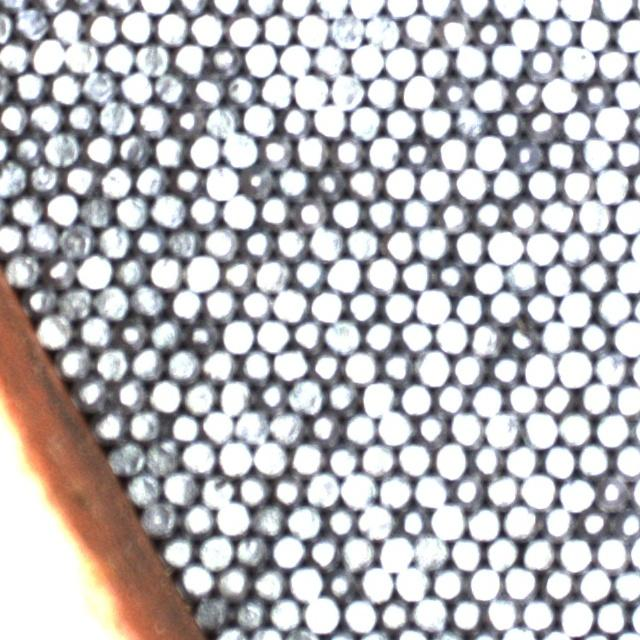tool: (377, 534, 413, 570), (485, 410, 521, 446), (340, 533, 376, 569), (412, 532, 448, 568), (326, 256, 362, 292), (342, 348, 378, 384), (558, 475, 594, 511), (502, 564, 538, 600), (304, 596, 340, 632), (432, 441, 468, 477), (162, 469, 198, 505), (393, 564, 428, 600), (329, 72, 364, 108), (468, 320, 503, 356), (558, 598, 593, 634), (595, 410, 630, 446), (181, 438, 216, 474), (521, 535, 556, 571), (252, 439, 288, 474), (99, 98, 134, 134), (82, 130, 117, 166), (593, 349, 628, 385), (78, 312, 113, 348), (340, 471, 375, 507), (130, 282, 166, 317), (377, 409, 413, 444), (198, 532, 233, 568), (305, 471, 340, 507), (466, 504, 501, 540), (556, 349, 592, 384), (59, 222, 94, 258), (270, 532, 305, 568), (558, 288, 593, 324), (357, 502, 393, 537), (36, 313, 72, 348), (503, 502, 538, 538), (342, 596, 377, 632), (524, 229, 559, 265), (595, 475, 630, 511), (44, 129, 79, 165), (576, 198, 612, 233), (576, 319, 612, 354), (141, 500, 177, 535), (472, 14, 508, 49), (289, 565, 324, 600), (234, 408, 269, 443), (559, 229, 594, 264), (484, 535, 519, 570), (506, 197, 541, 232), (488, 228, 523, 263), (185, 254, 220, 289), (309, 287, 344, 322), (269, 409, 304, 444), (558, 410, 593, 445), (14, 5, 49, 40), (594, 598, 629, 633), (293, 72, 328, 107), (234, 532, 269, 567), (415, 348, 450, 383), (595, 228, 630, 263), (217, 378, 252, 413), (559, 44, 594, 79), (360, 441, 395, 476), (204, 163, 239, 198), (64, 37, 99, 72), (180, 500, 215, 535), (308, 410, 343, 445), (520, 473, 555, 508), (377, 472, 412, 507), (330, 11, 365, 46), (117, 130, 152, 165), (118, 69, 153, 104), (251, 500, 286, 535), (27, 157, 62, 192), (576, 566, 611, 601), (109, 439, 144, 474), (96, 223, 131, 258), (144, 440, 179, 475), (217, 438, 251, 474), (242, 100, 276, 136), (595, 534, 629, 570), (430, 502, 464, 538), (203, 224, 239, 258), (365, 255, 399, 291), (166, 224, 202, 258), (523, 410, 557, 446), (366, 72, 400, 108), (418, 102, 452, 138), (31, 36, 65, 72), (222, 132, 258, 166), (448, 535, 482, 571), (349, 42, 383, 78), (347, 103, 381, 139), (576, 258, 612, 292), (232, 595, 268, 629), (505, 380, 540, 414), (467, 565, 501, 600), (255, 256, 289, 291), (309, 225, 344, 259), (205, 103, 240, 137), (290, 440, 324, 475), (366, 134, 401, 168), (383, 105, 417, 140), (77, 253, 112, 287), (306, 534, 341, 568), (471, 135, 506, 169), (154, 10, 189, 44), (542, 75, 576, 110), (596, 288, 630, 323), (558, 536, 592, 571), (137, 101, 171, 136), (292, 255, 326, 290), (542, 260, 576, 295), (470, 381, 504, 416), (541, 566, 576, 600), (541, 197, 575, 232), (360, 564, 394, 599), (215, 500, 249, 535), (128, 407, 163, 441), (383, 44, 418, 78), (272, 286, 306, 321), (63, 160, 98, 194), (522, 350, 556, 385), (487, 289, 522, 323), (64, 98, 98, 133), (380, 347, 414, 382), (345, 225, 379, 260), (415, 409, 449, 444), (596, 45, 630, 80), (453, 44, 488, 78), (115, 193, 149, 228), (329, 194, 364, 228), (153, 70, 188, 104), (25, 220, 60, 254), (252, 565, 287, 599), (430, 564, 465, 598), (242, 162, 277, 196), (469, 442, 504, 476), (505, 258, 540, 292), (541, 504, 576, 538), (542, 443, 577, 477), (190, 71, 224, 106), (471, 196, 505, 231), (490, 42, 524, 77), (216, 564, 251, 598), (504, 442, 539, 476), (414, 472, 448, 507), (130, 346, 165, 380), (148, 378, 182, 413), (293, 195, 328, 229), (83, 68, 117, 103), (98, 163, 133, 197), (395, 503, 430, 537), (179, 560, 214, 594), (94, 346, 129, 380), (452, 289, 486, 324), (135, 41, 170, 75), (520, 596, 555, 630), (326, 317, 360, 352), (255, 317, 290, 351), (362, 318, 397, 352), (508, 137, 543, 171), (540, 318, 574, 353), (412, 595, 447, 629), (221, 193, 255, 228), (398, 381, 432, 416), (172, 41, 206, 76), (450, 472, 484, 507), (560, 167, 594, 202), (125, 470, 160, 504), (484, 595, 519, 629), (194, 593, 229, 627), (324, 564, 358, 599), (322, 503, 357, 537), (401, 135, 435, 170), (221, 256, 254, 292), (190, 11, 224, 45), (416, 288, 450, 322), (382, 226, 416, 260), (416, 226, 450, 260), (594, 105, 628, 139), (202, 347, 236, 381), (188, 132, 222, 166), (361, 380, 395, 414), (436, 135, 470, 169), (434, 380, 468, 414), (261, 11, 295, 45), (366, 12, 400, 46), (418, 44, 452, 78), (239, 286, 273, 320), (544, 136, 578, 170), (289, 378, 323, 412), (312, 102, 346, 136), (295, 12, 329, 46), (166, 348, 200, 382), (203, 286, 237, 320), (287, 503, 321, 537), (294, 134, 328, 168), (78, 376, 112, 410), (134, 162, 168, 196), (260, 134, 294, 168), (396, 440, 430, 474), (50, 8, 84, 42), (200, 408, 234, 442), (6, 251, 40, 285), (277, 104, 311, 138), (508, 78, 542, 112), (331, 134, 365, 168), (523, 289, 557, 323), (381, 288, 415, 322), (578, 380, 612, 414), (345, 287, 379, 321), (59, 284, 93, 318), (151, 192, 185, 226), (594, 167, 628, 201), (579, 136, 613, 170), (168, 286, 202, 320), (401, 74, 435, 108), (226, 11, 260, 45), (438, 74, 472, 108), (114, 375, 148, 409), (472, 76, 506, 110), (243, 41, 277, 75), (102, 40, 136, 74), (454, 104, 488, 138), (434, 258, 468, 292), (255, 377, 289, 411), (185, 316, 219, 350), (240, 225, 274, 259), (383, 164, 417, 198), (200, 474, 234, 508), (276, 163, 310, 197), (167, 409, 201, 443), (313, 42, 347, 76), (399, 258, 433, 292), (402, 12, 436, 46), (270, 472, 304, 506), (133, 223, 167, 257), (149, 255, 183, 289), (268, 596, 302, 630), (508, 14, 542, 48), (454, 166, 488, 200), (450, 410, 484, 444), (578, 16, 612, 50), (149, 315, 183, 349), (273, 347, 307, 381), (220, 317, 254, 351), (80, 192, 114, 226), (116, 315, 150, 349), (452, 351, 486, 385), (576, 442, 610, 476), (486, 472, 520, 506), (524, 166, 558, 200), (208, 43, 242, 77), (398, 318, 432, 352), (434, 318, 468, 352), (348, 165, 382, 199), (377, 596, 411, 630), (274, 226, 308, 260), (524, 45, 558, 79), (44, 190, 78, 224), (505, 318, 539, 352), (93, 407, 127, 441), (236, 471, 270, 505), (448, 596, 482, 630), (324, 378, 358, 412), (184, 379, 217, 414), (28, 99, 63, 132), (119, 8, 152, 43), (365, 195, 398, 230), (48, 69, 81, 104), (326, 441, 359, 476), (278, 41, 311, 76), (526, 107, 559, 142), (541, 380, 574, 414), (86, 10, 119, 44), (344, 410, 377, 444), (560, 107, 593, 141), (162, 533, 195, 567), (260, 71, 293, 105), (152, 133, 186, 166), (471, 259, 504, 293), (418, 167, 452, 200), (13, 68, 46, 102), (542, 14, 576, 47), (239, 347, 272, 381), (489, 351, 522, 385), (95, 284, 128, 318), (291, 317, 325, 350), (437, 198, 470, 232), (170, 162, 203, 196), (115, 253, 148, 287), (490, 107, 524, 140), (314, 166, 348, 199), (309, 347, 342, 381), (453, 230, 486, 264), (438, 15, 472, 48), (490, 166, 523, 200), (224, 72, 258, 105), (59, 344, 92, 378), (9, 192, 43, 225), (187, 193, 221, 226), (578, 78, 612, 111), (258, 193, 292, 226), (172, 102, 205, 136), (25, 281, 58, 315), (44, 254, 77, 287), (12, 131, 44, 165), (400, 195, 432, 229), (578, 504, 610, 538), (0, 38, 29, 72), (612, 566, 640, 600), (0, 100, 28, 134), (613, 381, 640, 416), (613, 442, 640, 477), (613, 320, 640, 355), (613, 258, 640, 292), (613, 135, 640, 169), (614, 197, 640, 232), (614, 76, 640, 110), (0, 161, 26, 195), (614, 17, 640, 51), (615, 506, 640, 539), (0, 220, 24, 253), (560, 0, 595, 19), (596, 0, 632, 18), (524, 0, 558, 18), (419, 0, 454, 17), (491, 0, 525, 17), (455, 0, 489, 17), (384, 0, 418, 16), (279, 0, 313, 16), (250, 624, 284, 640), (349, 0, 383, 16), (244, 0, 277, 16), (315, 0, 349, 15), (174, 0, 208, 15), (210, 0, 242, 15), (70, 0, 102, 14), (103, 0, 137, 13), (32, 0, 66, 13)
